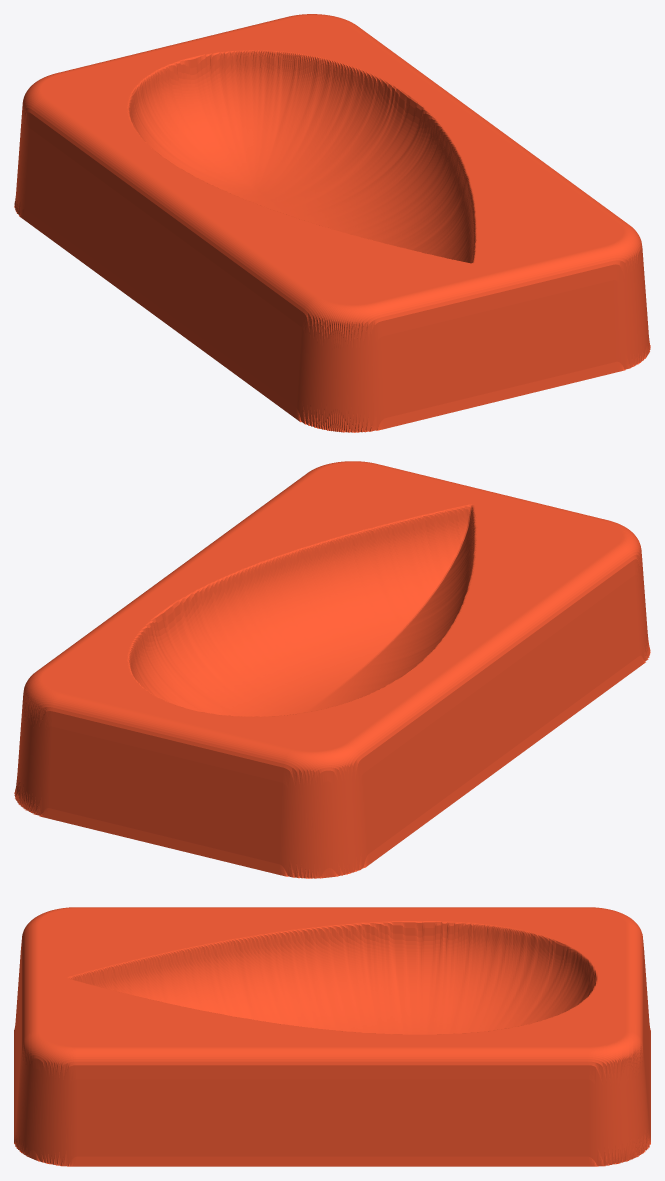
File: mold.glb
3 views of the same model, one above another, from view 1: azimuth 30°, elevation 25°; view 2: azimuth 150°, elevation 25°; view 3: azimuth 270°, elevation 25° (orthographic). The views are drawn at different scales.
Visible parts, largest first — view 1: geometry_0; view 2: geometry_0; view 3: geometry_0.
Boxes of the visible parts, x1,y1,x2,y2 form: geometry_0: (14, 14, 650, 432); geometry_0: (14, 461, 650, 878); geometry_0: (14, 907, 650, 1166).
Size of the model in its own units: 0.0546 by 0.0175 by 0.0924.
